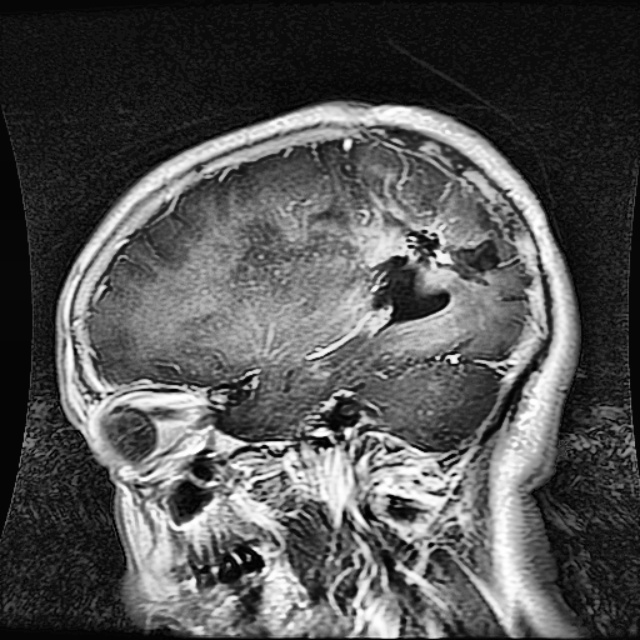Meningioma: (370, 198, 502, 329)
